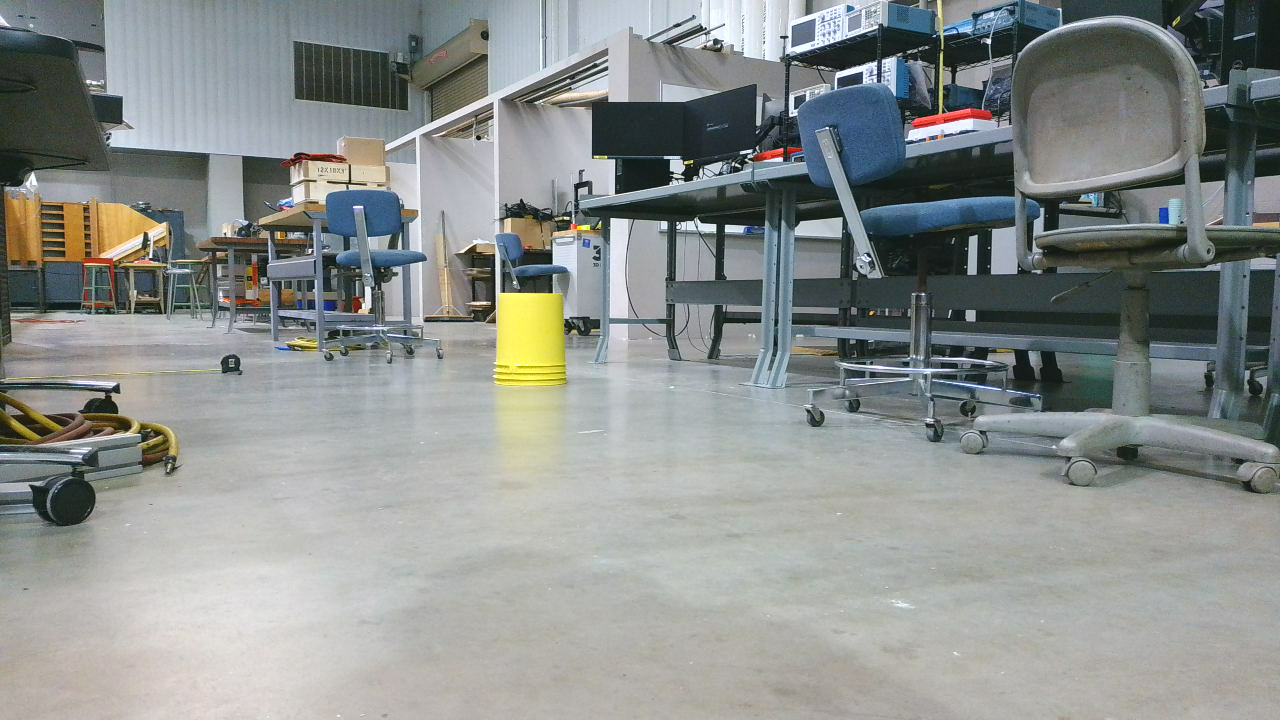yellow_bucket: (500, 299, 572, 392)
